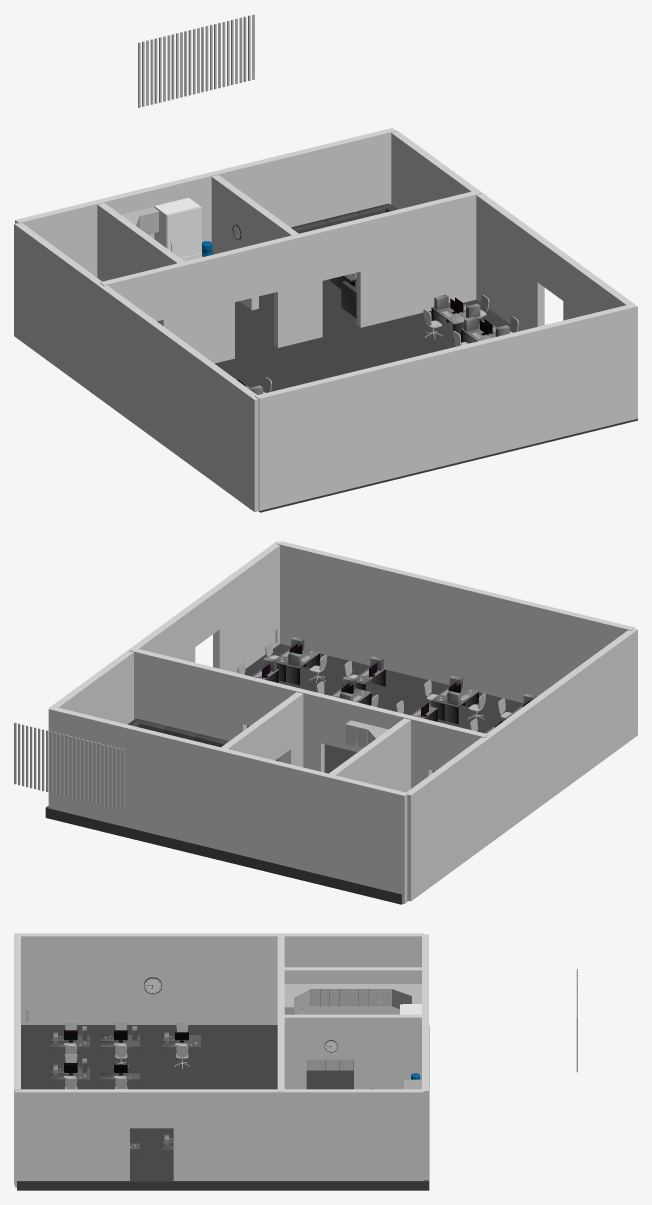
The model's file is Nivel_3.fbx.
3 views of the same model, one above another, from view 1: azimuth 30°, elevation 25°; view 2: azimuth 150°, elevation 25°; view 3: azimuth 270°, elevation 25° (orthographic). The views are drawn at different scales.
Visible parts, largest first — view 1: Cube.002, Cube.006, Cube.005, Cube.003, Cube.004, Cube.001, Material2.025, Cube.008, Cube.007, Handle.001, Cube.985_Cube.1381_0.001; view 2: Cube.003, Cube.002, Cube.005, Cube.006, Cube.004, Cube.001, Material2.025, Cube.008, Cube.007, Cube.985_Cube.1381_0.001, Cubicle Desk.045, Cubicle Desk.019; view 3: Cube.004, Cube.005, Cube.001, Cube.008, Cube.007, Cube.003, Cube.006, Cube.002, KitchenCupboard.007, KitchenCupboard.014.
Boxes of the visible parts, x1,y1,x2,y2 form: Cube.002: [255, 304, 633, 510]; Cube.006: [100, 190, 481, 363]; Cube.005: [14, 223, 258, 512]; Cube.003: [15, 128, 396, 277]; Cube.004: [391, 130, 637, 419]; Cube.001: [214, 279, 637, 512]; Material2.025: [138, 14, 254, 107]; Cube.008: [211, 175, 298, 310]; Cube.007: [97, 203, 184, 323]; Handle.001: [154, 197, 201, 261]; Cube.985_Cube.1381_0.001: [291, 203, 397, 318]; Cube.003: [48, 706, 408, 903]; Cube.002: [277, 541, 634, 702]; Cube.005: [406, 628, 637, 901]; Cube.006: [129, 647, 488, 788]; Cube.004: [49, 541, 279, 724]; Cube.001: [45, 644, 523, 904]; Material2.025: [14, 722, 124, 810]; Cube.008: [221, 692, 303, 767]; Cube.007: [329, 718, 410, 792]; Cube.985_Cube.1381_0.001: [128, 718, 228, 747]; Cubicle Desk.045: [444, 688, 479, 723]; Cubicle Desk.019: [285, 649, 320, 685]; Cube.004: [15, 1089, 423, 1187]; Cube.005: [15, 933, 423, 1024]; Cube.001: [17, 1025, 429, 1190]; Cube.008: [284, 1014, 421, 1089]; Cube.007: [284, 967, 421, 1014]; Cube.003: [422, 934, 428, 1180]; Cube.006: [277, 934, 284, 1091]; Cube.002: [14, 934, 20, 1184]; KitchenCupboard.007: [284, 984, 329, 1014]; KitchenCupboard.014: [368, 984, 421, 1005].
Size of the model in its own units: 99529 by 43985 by 164602.
